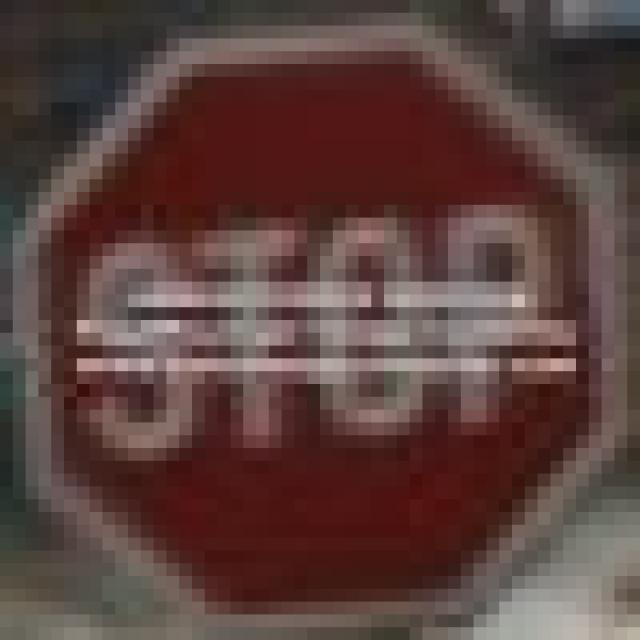STOP: (12, 12, 602, 602)
